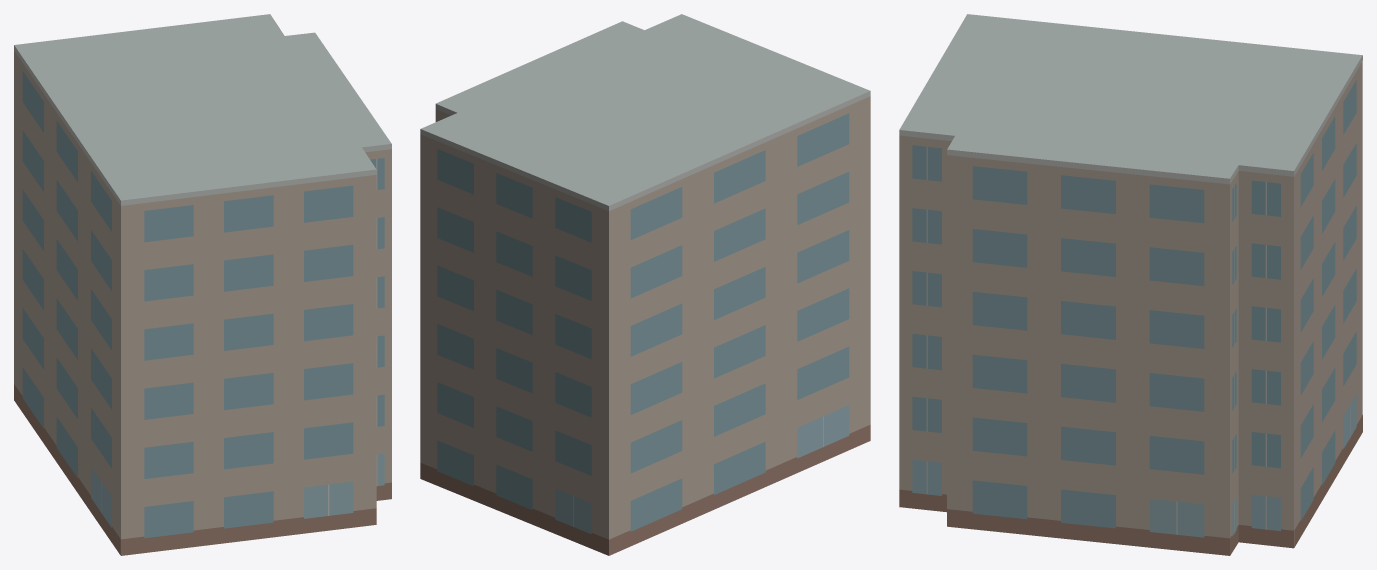
File: survey-upis-33047165.glb
3 views of the same model, side by side, from view 1: azimuth 30°, elevation 25°; view 2: azimuth 150°, elevation 25°; view 3: azimuth 270°, elevation 25° (orthographic). The views are drawn at different scales.
Visible parts, largest first — view 1: survey-upis-33047165.tmp; view 2: survey-upis-33047165.tmp; view 3: survey-upis-33047165.tmp.
Boxes of the visible parts, box(x1,y1,x2,y2) form: survey-upis-33047165.tmp: box(14, 14, 391, 555); survey-upis-33047165.tmp: box(420, 14, 870, 555); survey-upis-33047165.tmp: box(899, 14, 1362, 555).
Size of the model in its own units: 15.28 by 16.3 by 18.16.
